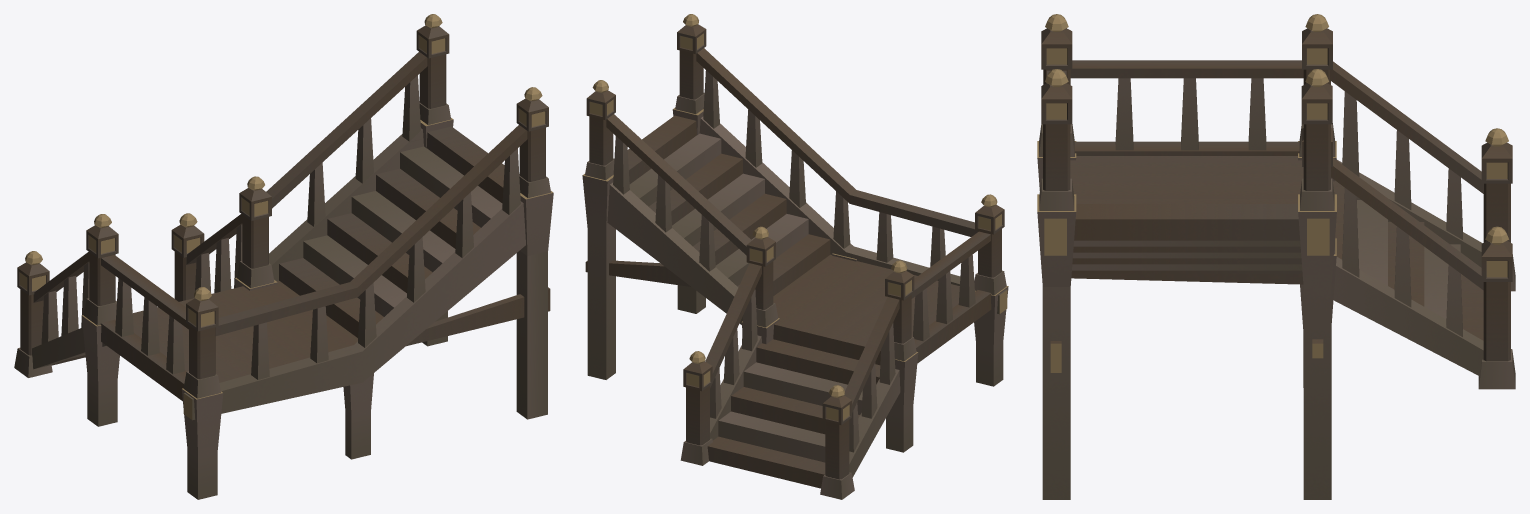
Rendered from Stair_2_L.fbx.
3 renders of one model, left to right at view 1: azimuth 30°, elevation 25°; view 2: azimuth 150°, elevation 25°; view 3: azimuth 270°, elevation 25°, orthographic. The views are drawn at different scales.
Parts seen in each view (by area): view 1: polySurface1833; view 2: polySurface1833; view 3: polySurface1833.
Part boxes in pixels (x1,y1,x2,y2): polySurface1833: (14, 14, 553, 499); polySurface1833: (582, 14, 1008, 499); polySurface1833: (1037, 14, 1515, 499).
Size of the model in its own units: 698 by 602 by 616.
